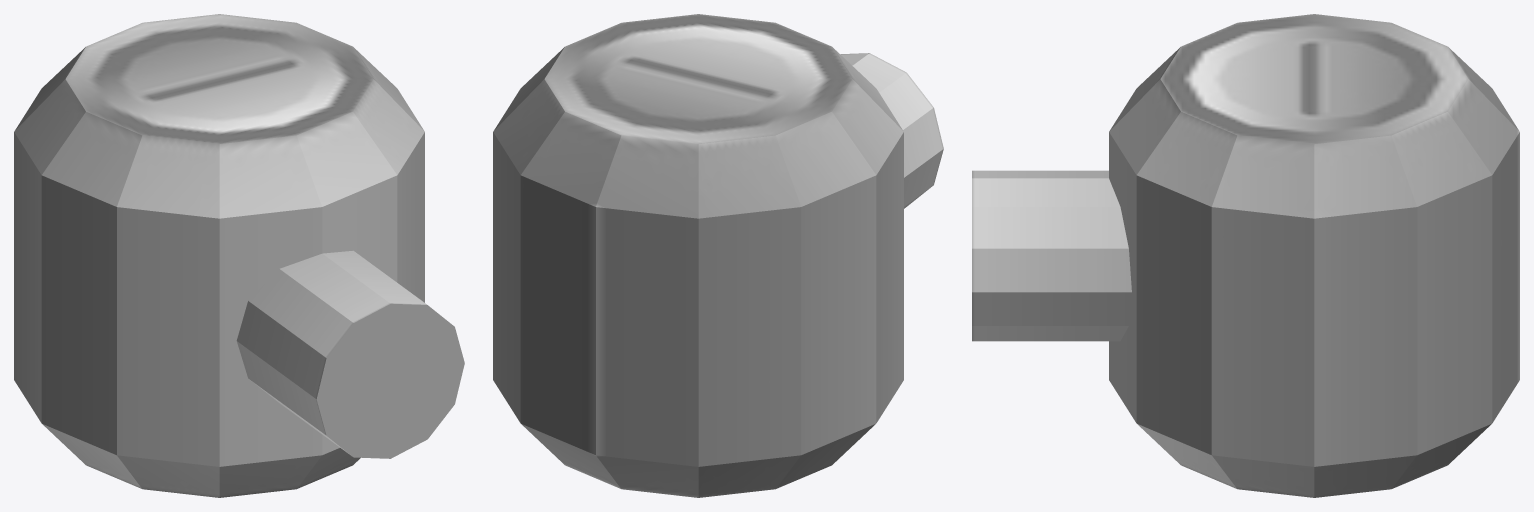
Rendered from JVRC-1-shape-31.dae.
The picture shows the model from 3 angles, left to right: view 1: azimuth 30°, elevation 25°; view 2: azimuth 150°, elevation 25°; view 3: azimuth 270°, elevation 25°; orthographic projection.
Visible parts, largest first — view 1: root; view 2: root; view 3: root.
Boxes of the visible parts, x1,y1,x2,y2 form: root: [14, 14, 464, 497]; root: [493, 14, 943, 497]; root: [972, 14, 1519, 497].
Size of the model in its own units: 6 by 5.7 by 8.
1 material, 1 textured.
